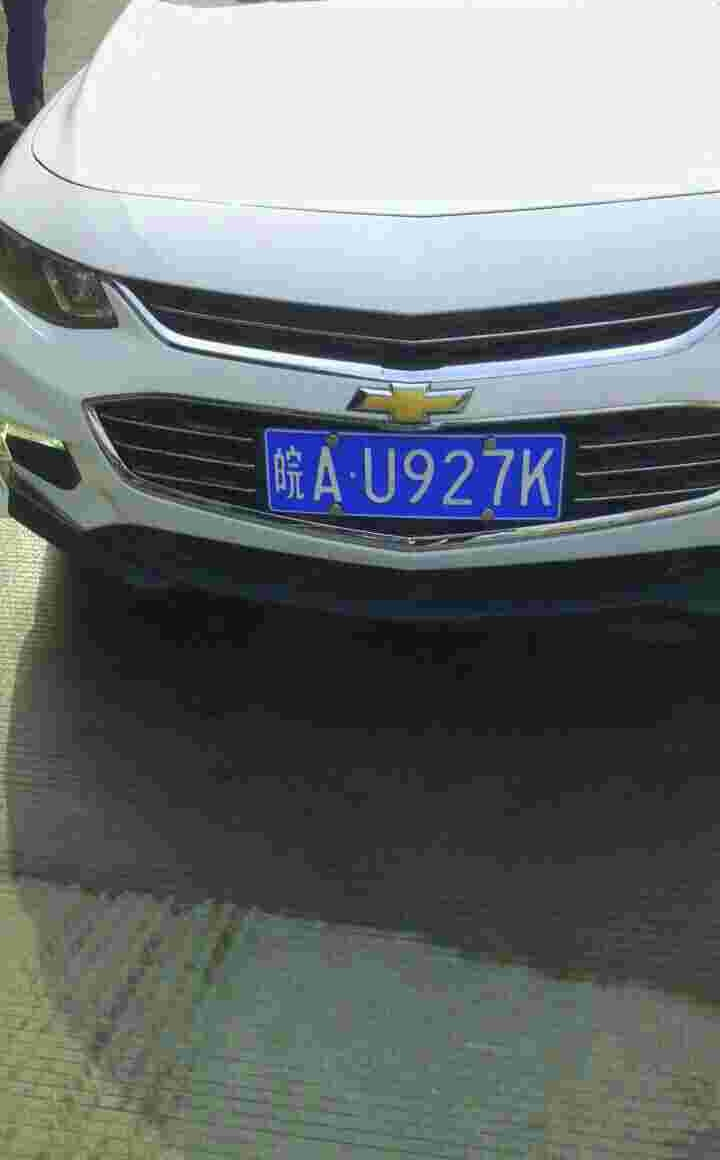license_plate: (251, 422, 564, 540)
